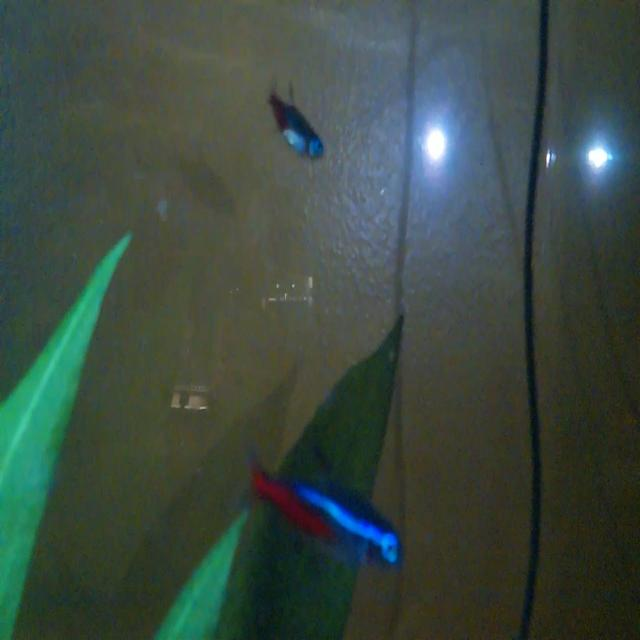fish: (237, 438, 413, 575), (260, 75, 331, 178)
